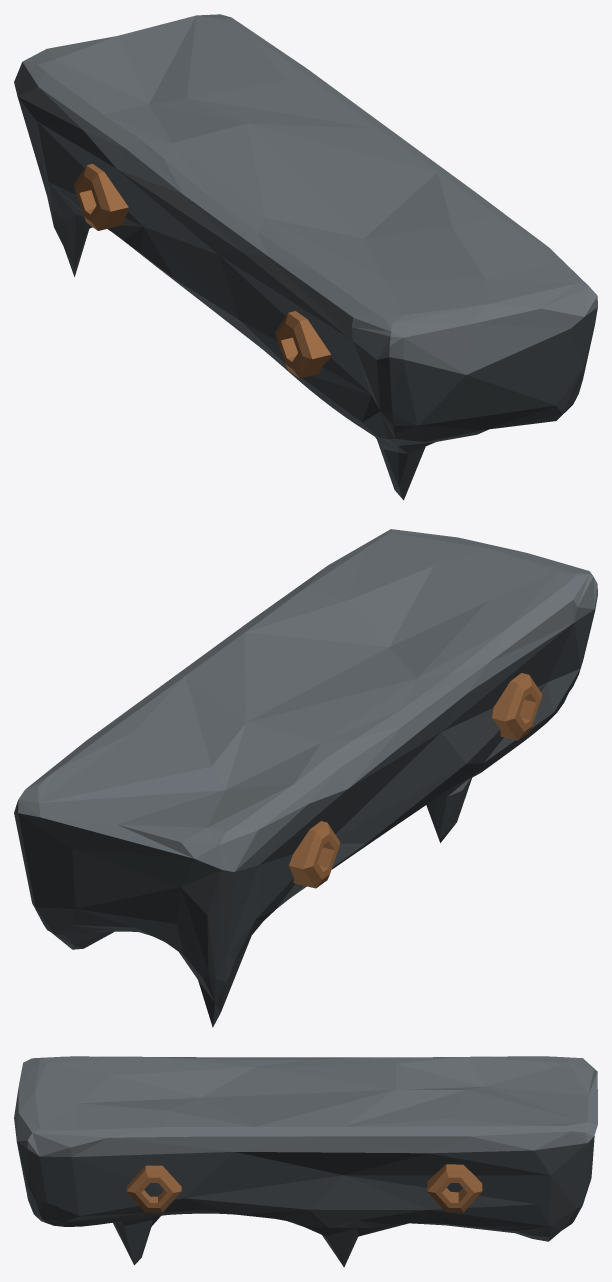
The model's file is geo_vert_plat_2x6.fbx.
The picture shows the model from 3 angles, top to bottom: view 1: azimuth 30°, elevation 25°; view 2: azimuth 150°, elevation 25°; view 3: azimuth 270°, elevation 25°; orthographic projection. The views are drawn at different scales.
Visible parts, largest first — view 1: geo_vert_plat_2x6; view 2: geo_vert_plat_2x6; view 3: geo_vert_plat_2x6.
Part boxes in pixels (x1,y1,x2,y2): geo_vert_plat_2x6: [14, 14, 597, 500]; geo_vert_plat_2x6: [14, 529, 597, 1027]; geo_vert_plat_2x6: [14, 1056, 597, 1267].
Size of the model in its own units: 2.18 by 2.06 by 5.97.
